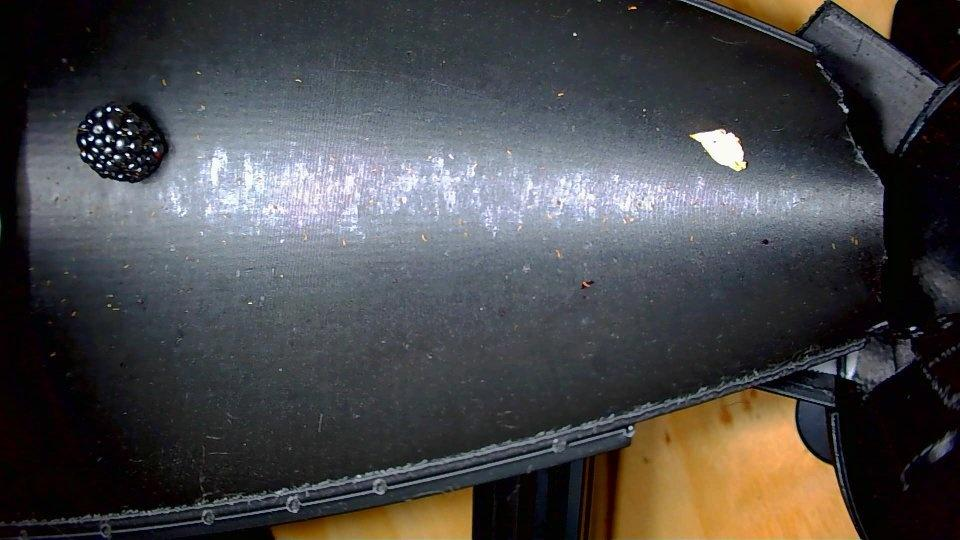berry: (76, 102, 165, 181)
